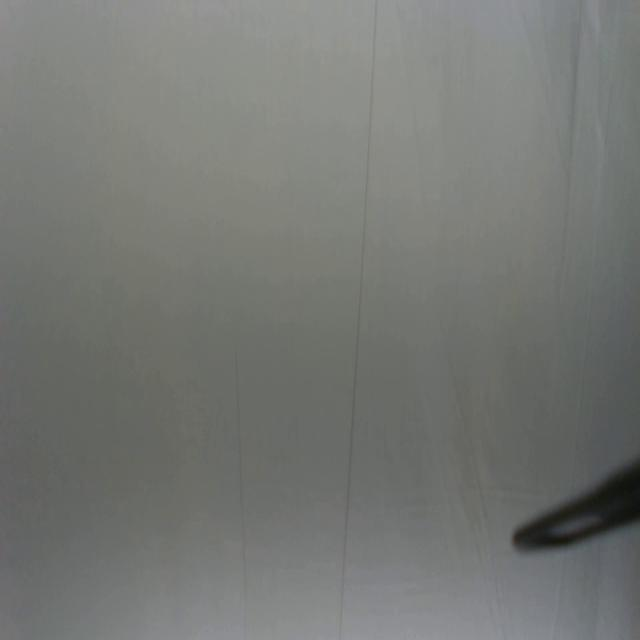crease: (339, 0, 380, 639), (233, 352, 250, 640)
